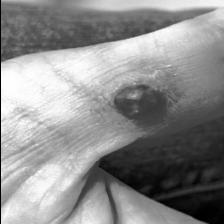Unclassified: (107, 80, 161, 118)
